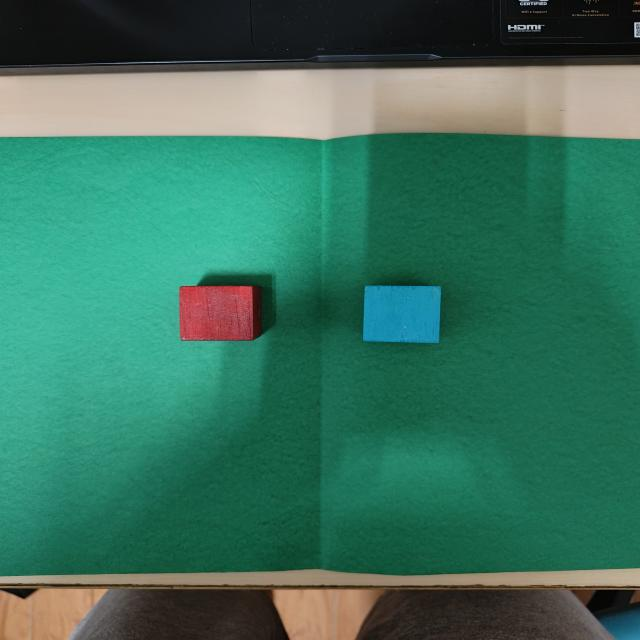blue_block: (365, 286, 441, 342)
red_block: (181, 286, 252, 340)
